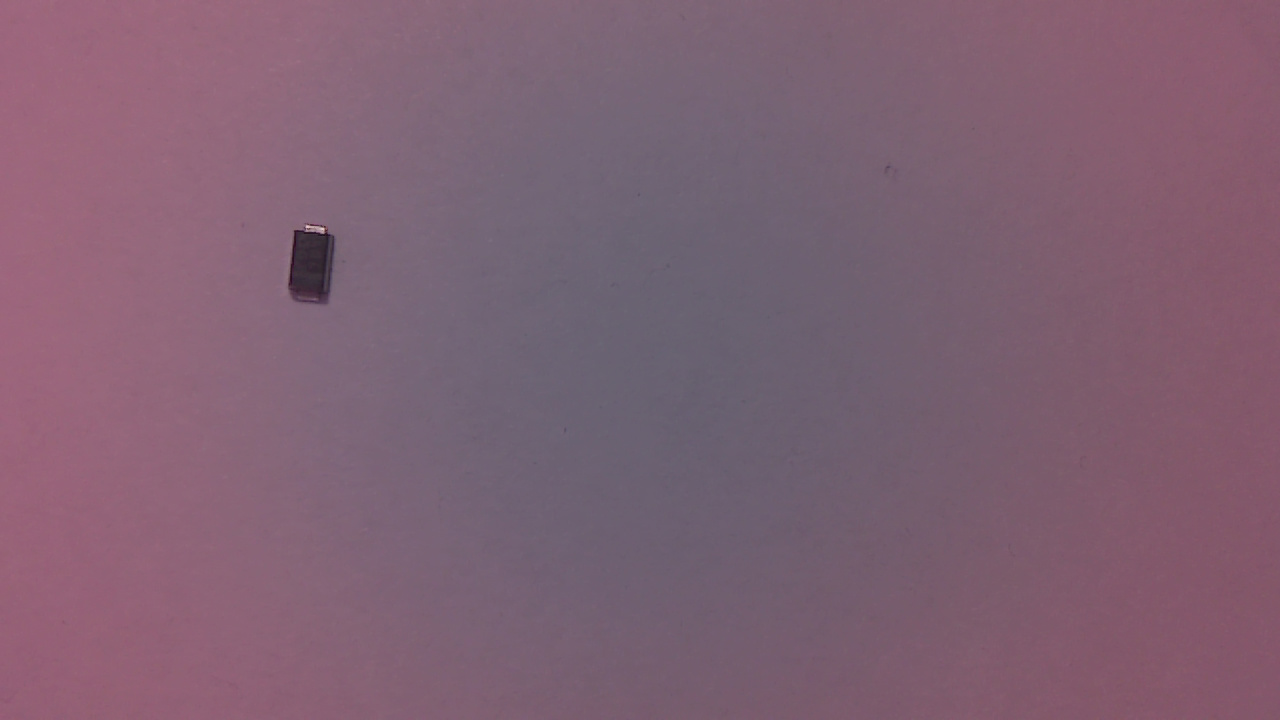Diode: (302, 223, 341, 314)
